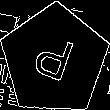P_S: (29, 30, 80, 90)
